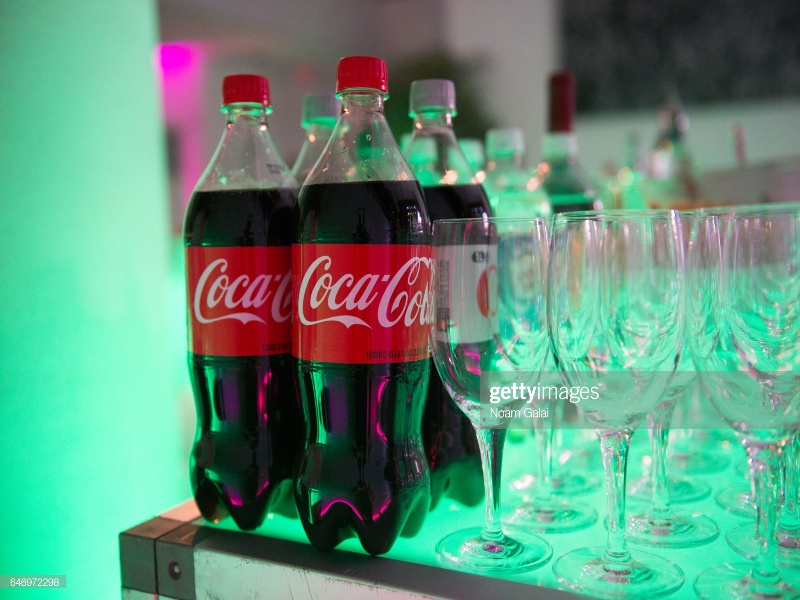coke-bottle-2l: (188, 67, 295, 530)
coke-bottle-700ml: (299, 56, 430, 553)
